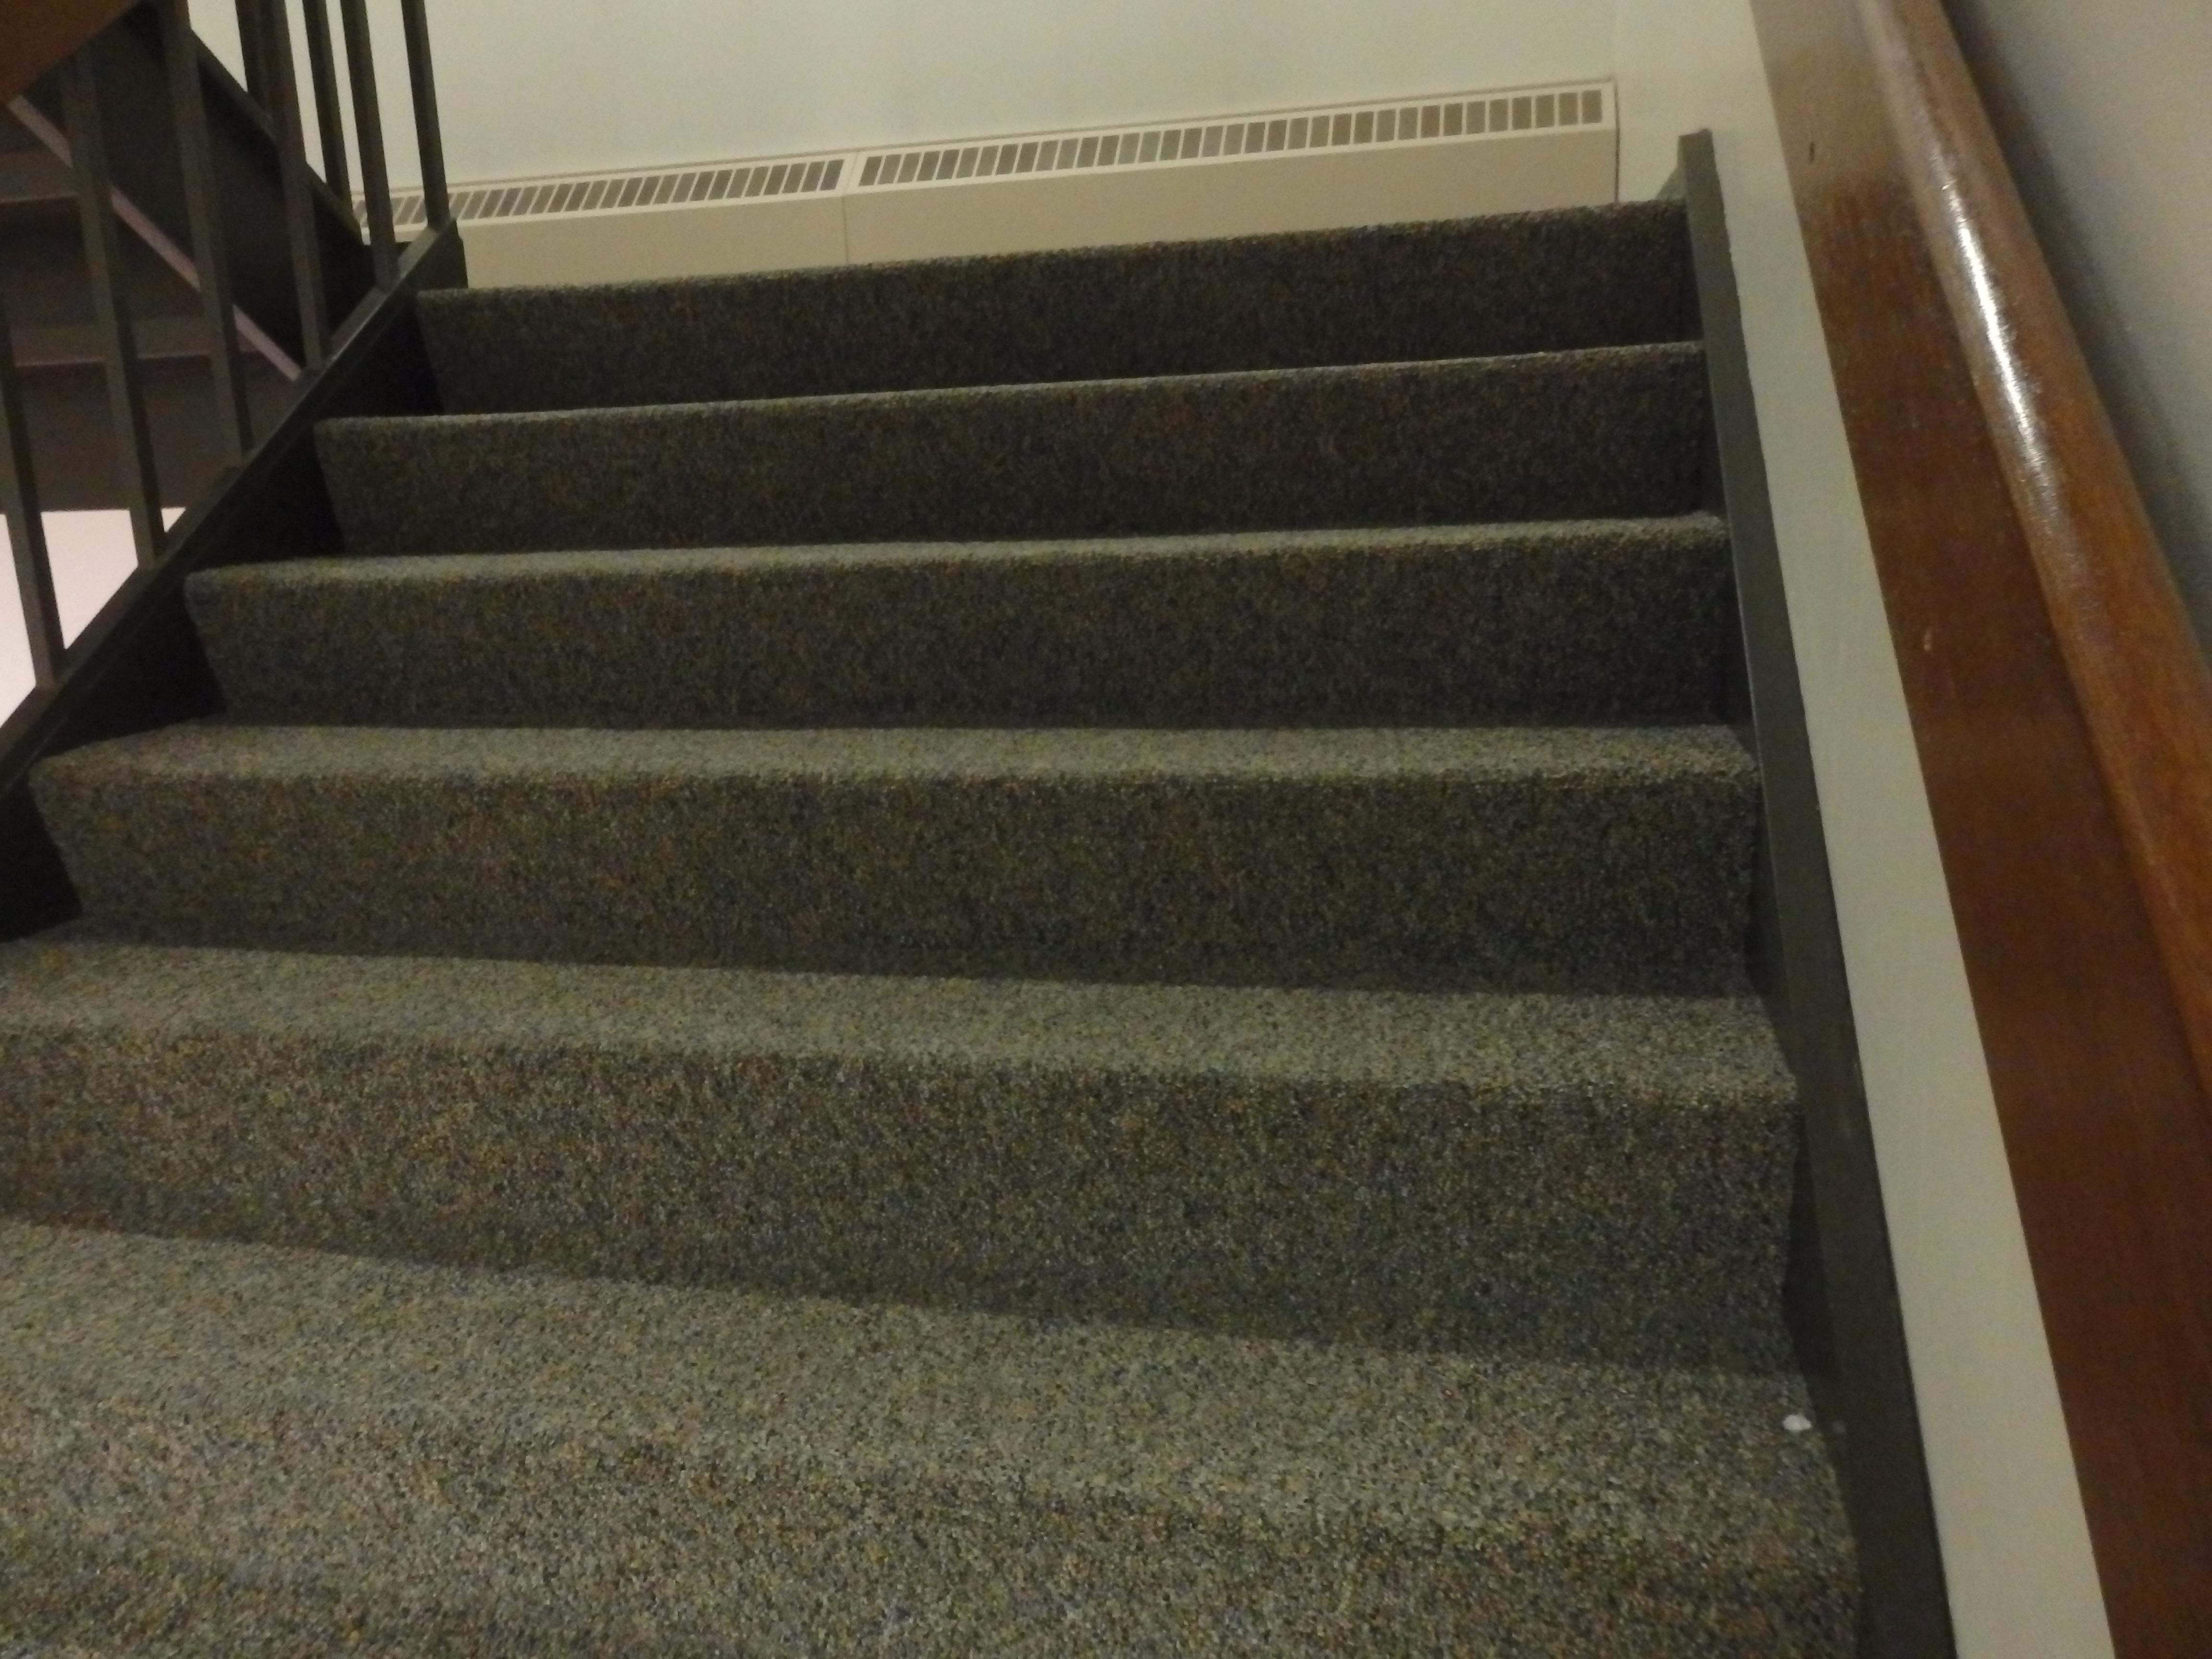stairs_up: (37, 166, 1714, 1551)
